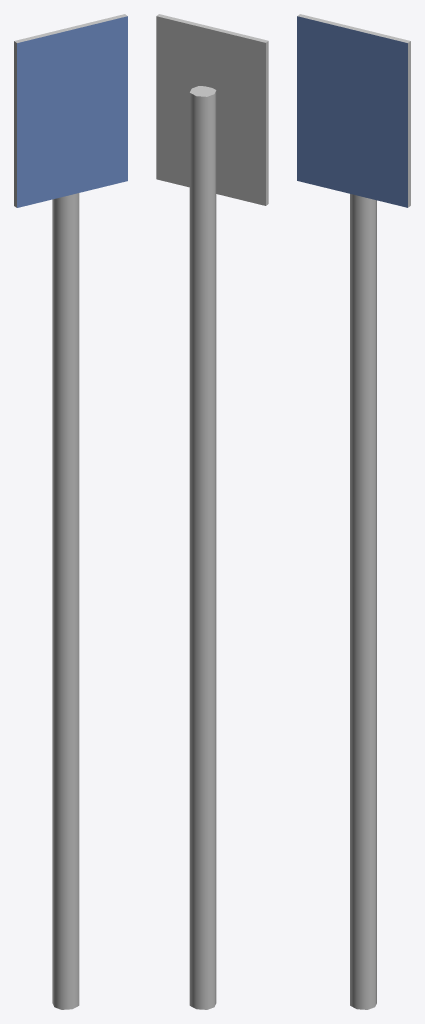
File: SignRectangle.fbx
3 views of the same model, side by side, from view 1: azimuth 30°, elevation 25°; view 2: azimuth 150°, elevation 25°; view 3: azimuth 330°, elevation 25° (orthographic).
Parts seen in each view (by area): view 1: Plane.025; view 2: Plane.025; view 3: Plane.025.
Boxes of the visible parts, x1=… form: Plane.025: x1=14, y1=14, x2=127, y2=1009; Plane.025: x1=156, y1=14, x2=268, y2=1009; Plane.025: x1=297, y1=14, x2=410, y2=1009.
Bounding box in the file's own units: 18.29 × 155 × 4.42.
